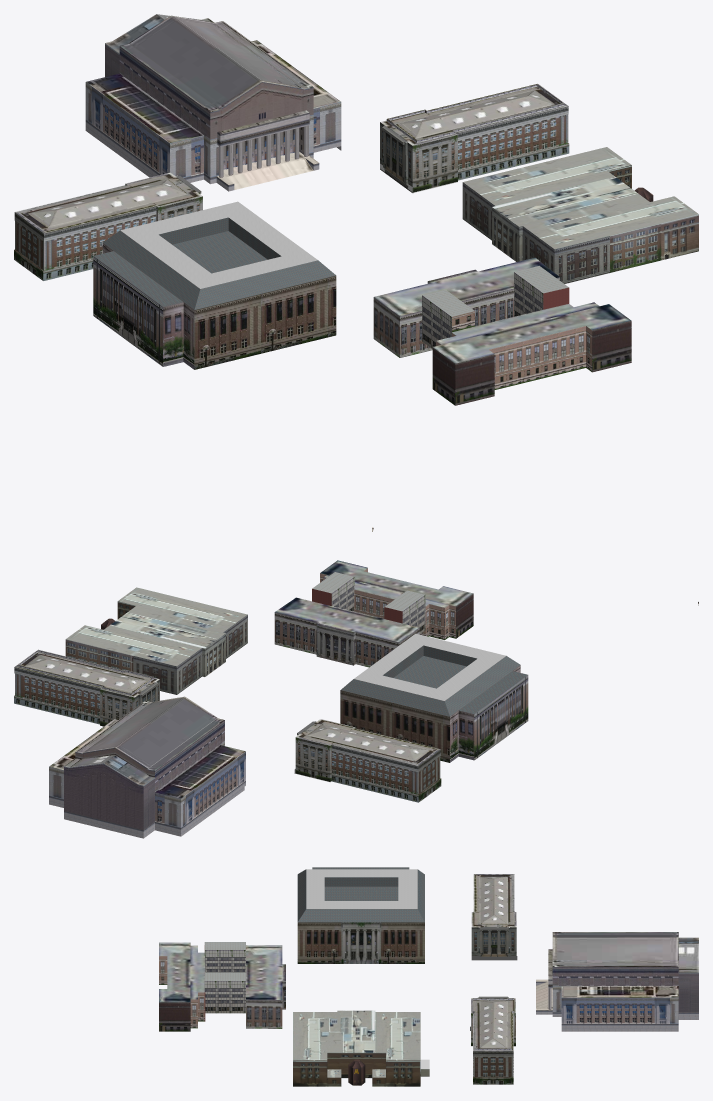
File: Campus1.fbx
3 renders of one model, top to bottom at view 1: azimuth 30°, elevation 25°; view 2: azimuth 150°, elevation 25°; view 3: azimuth 270°, elevation 25°, orthographic. The views are drawn at different scales.
Visible parts, largest first — view 1: 3DGeom~66, 3DGeom~14, 3DGeom~98, 3DGeom~50, 3DGeom~43, 3DGeom~44, 3DGeom~93, 3DGeom~59, 3DGeom~52, 3DGeom~53, 3DGeom~48, 3DGeom~16 (+24 smaller); view 2: 3DGeom~66, 3DGeom~14, 3DGeom~98, 3DGeom~73, 3DGeom~50, 3DGeom~43, 3DGeom~44, 3DGeom~93, 3DGeom~92, 3DGeom~58, 3DGeom~48, 3DGeom~57 (+23 smaller); view 3: 3DGeom~66, 3DGeom~14, 3DGeom~51, 3DGeom~98, 3DGeom~43, 3DGeom~44, 3DGeom~72, 3DGeom~59, 3DGeom~55, 3DGeom~19, 3DGeom~74, 3DGeom~58 (+13 smaller).
Boxes of the visible parts, <box> form: 3DGeom~66: <box>86,14,340,143</box>; 3DGeom~14: <box>463,147,698,249</box>; 3DGeom~98: <box>15,83,568,233</box>; 3DGeom~50: <box>194,275,336,369</box>; 3DGeom~43: <box>103,217,335,309</box>; 3DGeom~44: <box>120,201,317,288</box>; 3DGeom~93: <box>457,106,569,180</box>; 3DGeom~59: <box>433,302,631,363</box>; 3DGeom~52: <box>436,311,592,389</box>; 3DGeom~53: <box>432,321,631,405</box>; 3DGeom~48: <box>93,256,163,366</box>; 3DGeom~16: <box>462,182,609,283</box>; 3DGeom~66: <box>49,696,245,798</box>; 3DGeom~14: <box>66,587,247,666</box>; 3DGeom~98: <box>15,649,440,765</box>; 3DGeom~73: <box>64,763,143,829</box>; 3DGeom~50: <box>340,690,449,762</box>; 3DGeom~43: <box>341,645,520,716</box>; 3DGeom~44: <box>354,633,505,700</box>; 3DGeom~93: <box>331,745,418,802</box>; 3DGeom~92: <box>14,667,100,724</box>; 3DGeom~58: <box>275,597,419,642</box>; 3DGeom~48: <box>474,675,528,760</box>; 3DGeom~57: <box>274,612,419,667</box>; 3DGeom~66: <box>548,932,698,997</box>; 3DGeom~14: <box>293,1010,420,1077</box>; 3DGeom~51: <box>297,922,424,963</box>; 3DGeom~98: <box>471,874,516,1051</box>; 3DGeom~43: <box>297,869,424,922</box>; 3DGeom~44: <box>306,869,417,908</box>; 3DGeom~72: <box>552,967,678,985</box>; 3DGeom~59: <box>159,942,205,1002</box>; 3DGeom~55: <box>204,950,245,1013</box>; 3DGeom~19: <box>293,1060,420,1086</box>; 3DGeom~74: <box>576,997,654,1023</box>; 3DGeom~58: <box>246,945,285,999</box>.
Bounding box in the file's own units: 204 × 331 × 36.2.
70 materials, 62 textured.
